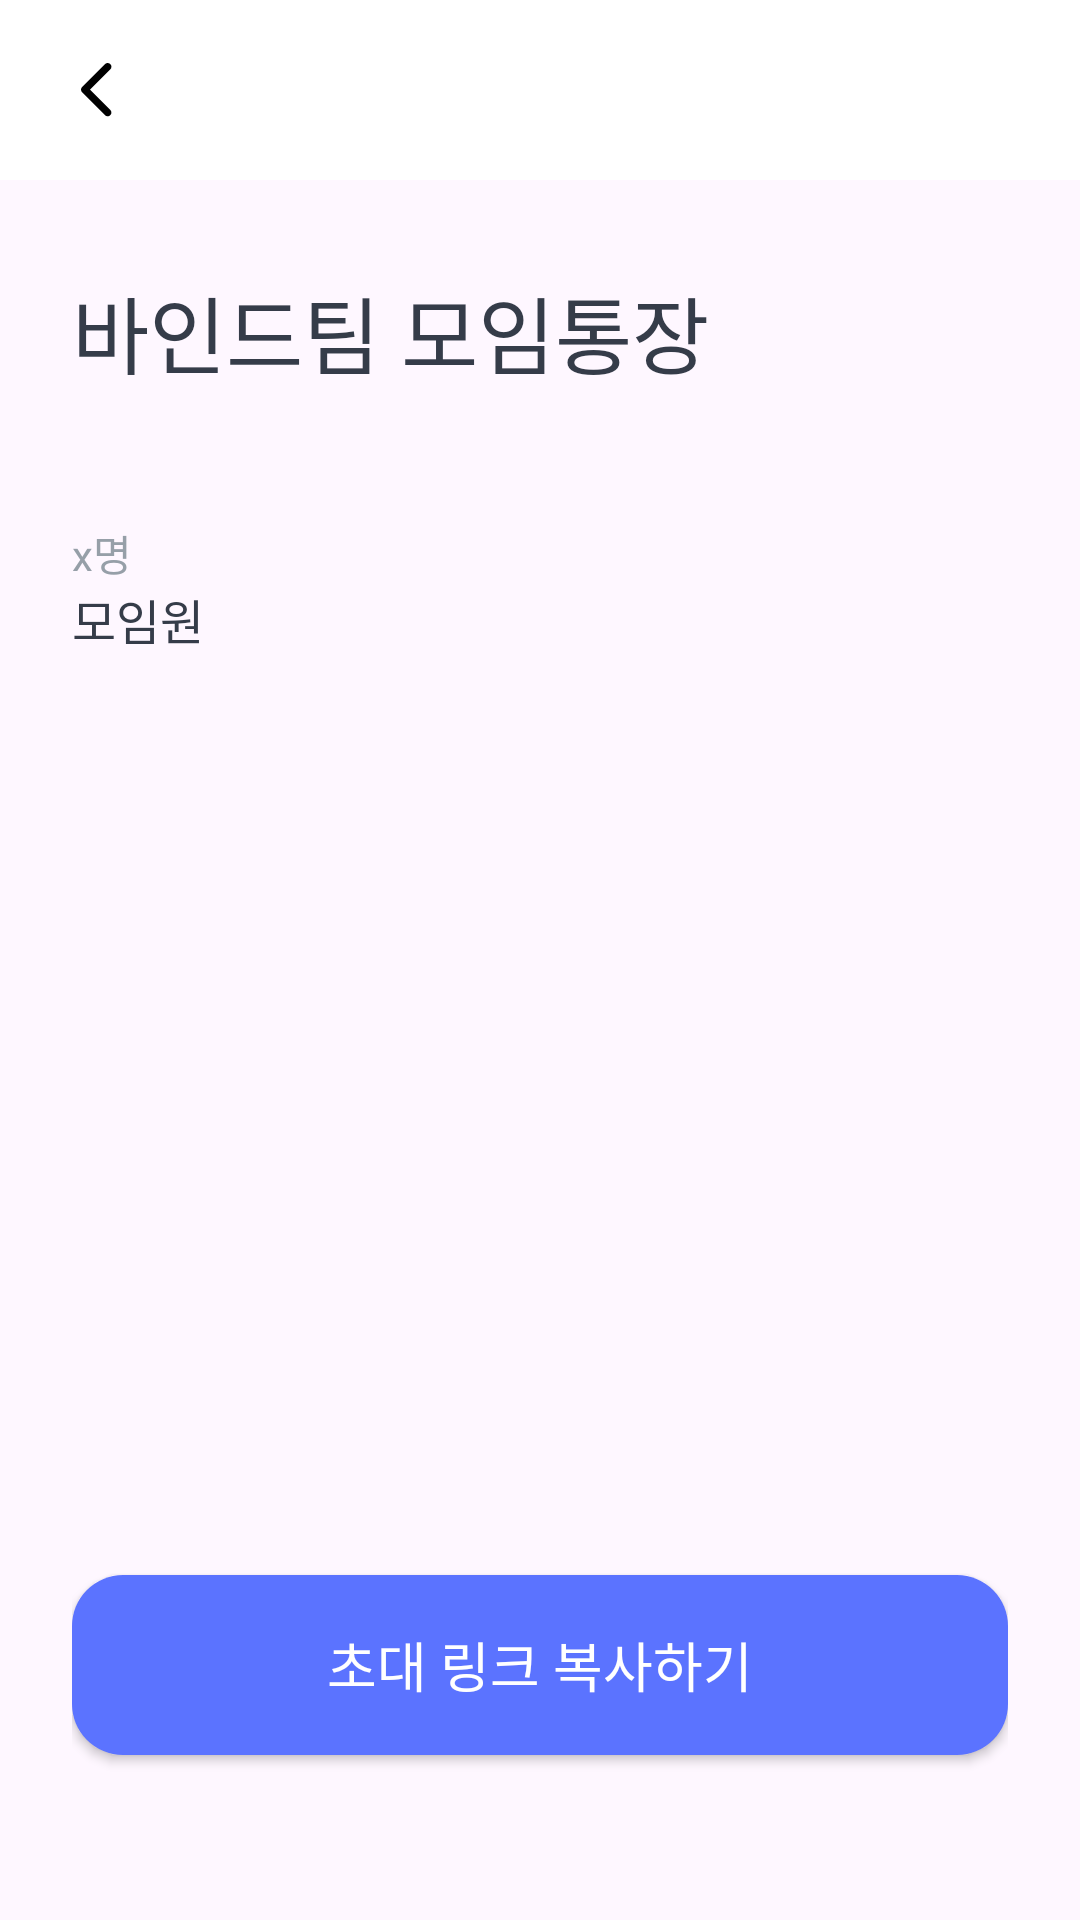

Screen size 1080 × 1920. Icon name, then its box in pixels as (x1, y1, x2, y2):
arrow back: (81, 63, 112, 117)
